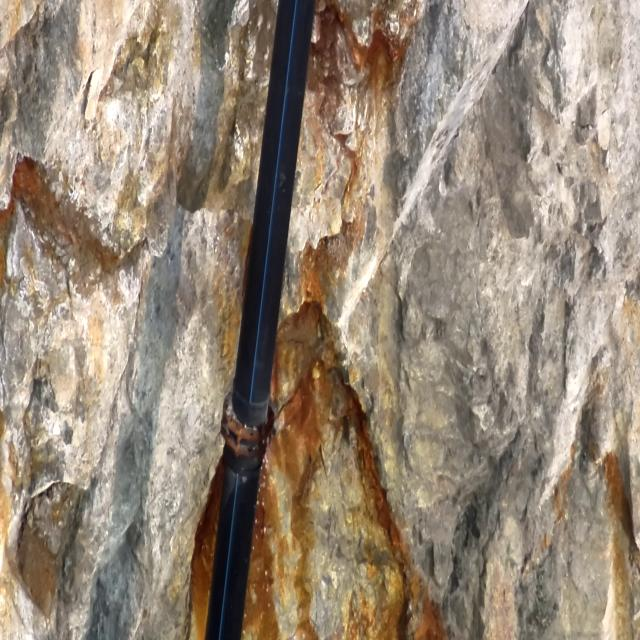leak: (253, 433, 289, 579)
